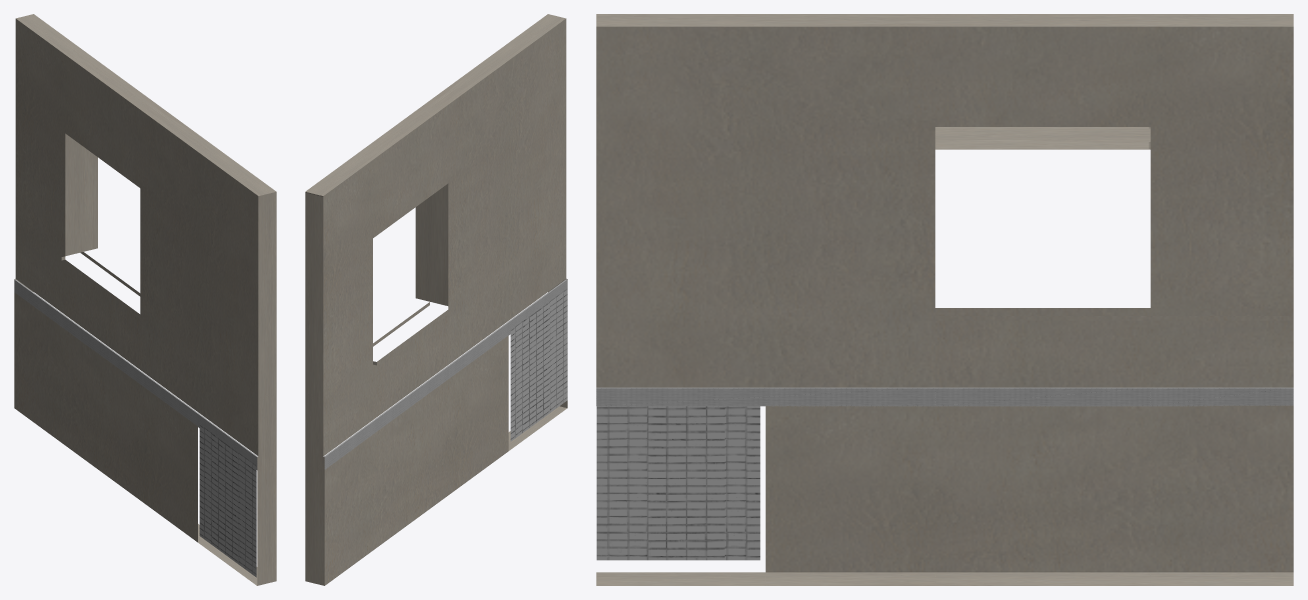
File: rightwall.glb
3 views of the same model, side by side, from view 1: azimuth 30°, elevation 25°; view 2: azimuth 150°, elevation 25°; view 3: azimuth 270°, elevation 25° (orthographic). The views are drawn at different scales.
Visible parts, largest first — view 1: WallsideR, WallsideR.001, TabWallsideRD.001; view 2: WallsideR, WallsideR.001, TabWallsideRD.001; view 3: WallsideR, WallsideR.001, TabWallsideRD.001.
Boxes of the visible parts, <box> form: WallsideR: <box>14,14,276,585</box>; WallsideR.001: <box>199,424,256,577</box>; TabWallsideRD.001: <box>14,279,257,469</box>; WallsideR: <box>305,14,567,585</box>; WallsideR.001: <box>510,288,567,441</box>; TabWallsideRD.001: <box>324,279,567,469</box>; WallsideR: <box>596,14,1293,585</box>; WallsideR.001: <box>596,406,760,560</box>; TabWallsideRD.001: <box>596,387,1293,406</box>.
Size of the model in its own units: 10.61 by 109 by 123.
3 materials, 3 textured.
